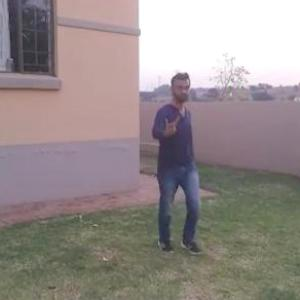takeoff-hand: (159, 112, 185, 140)
